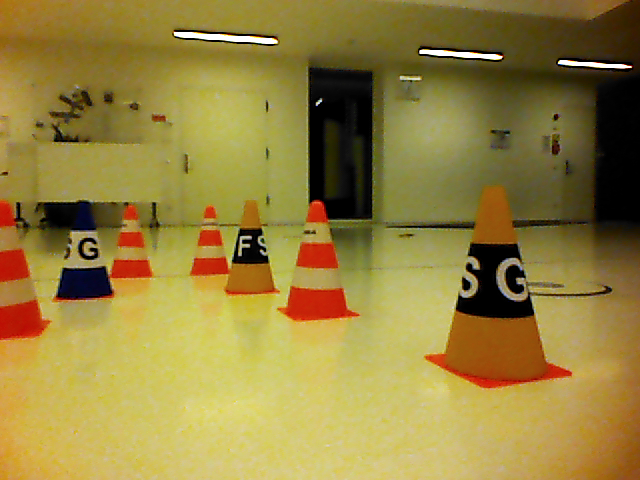bluecone: (54, 200, 112, 299)
orangeconesmall: (288, 199, 350, 316), (111, 204, 152, 278), (189, 206, 229, 274)
yellowcone: (446, 185, 552, 383), (226, 199, 275, 294)
